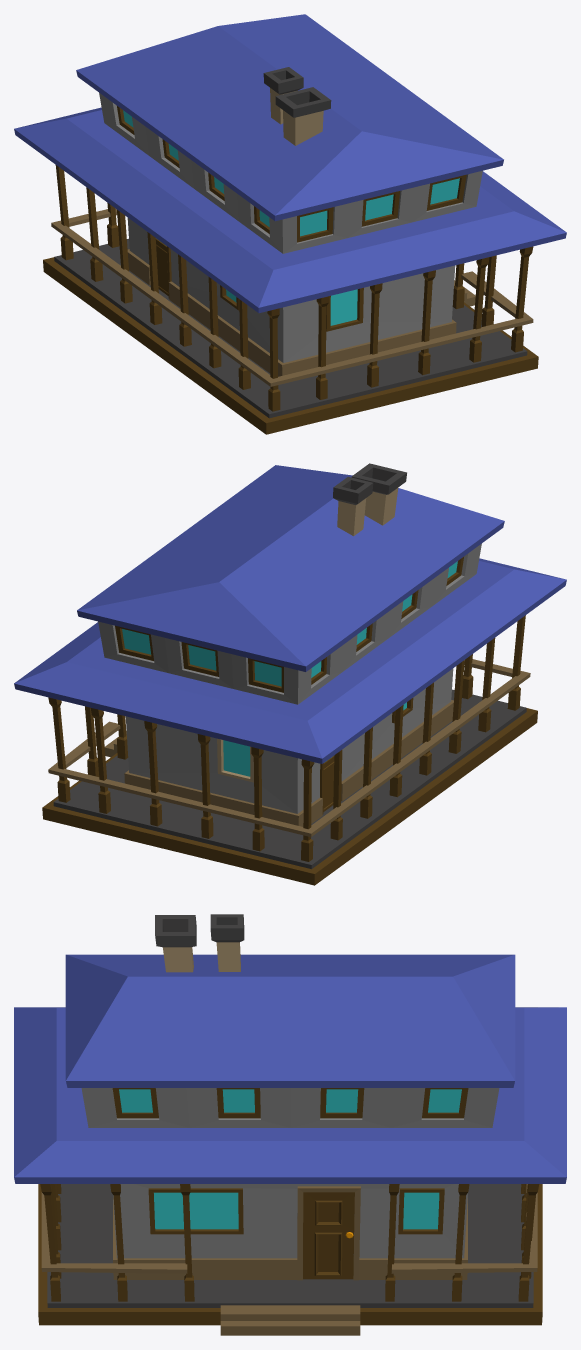
File: MaisonColoniale.fbx
3 views of the same model, one above another, from view 1: azimuth 30°, elevation 25°; view 2: azimuth 150°, elevation 25°; view 3: azimuth 270°, elevation 25° (orthographic). The views are drawn at different scales.
Visible parts, largest first — view 1: MaisonColoniale; view 2: MaisonColoniale; view 3: MaisonColoniale.
Boxes of the visible parts, x1,y1,x2,y2 form: MaisonColoniale: (14,14,566,434); MaisonColoniale: (14,463,566,885); MaisonColoniale: (14,914,566,1335).
Bounding box in the file's own units: 24.85 × 21 × 34.
